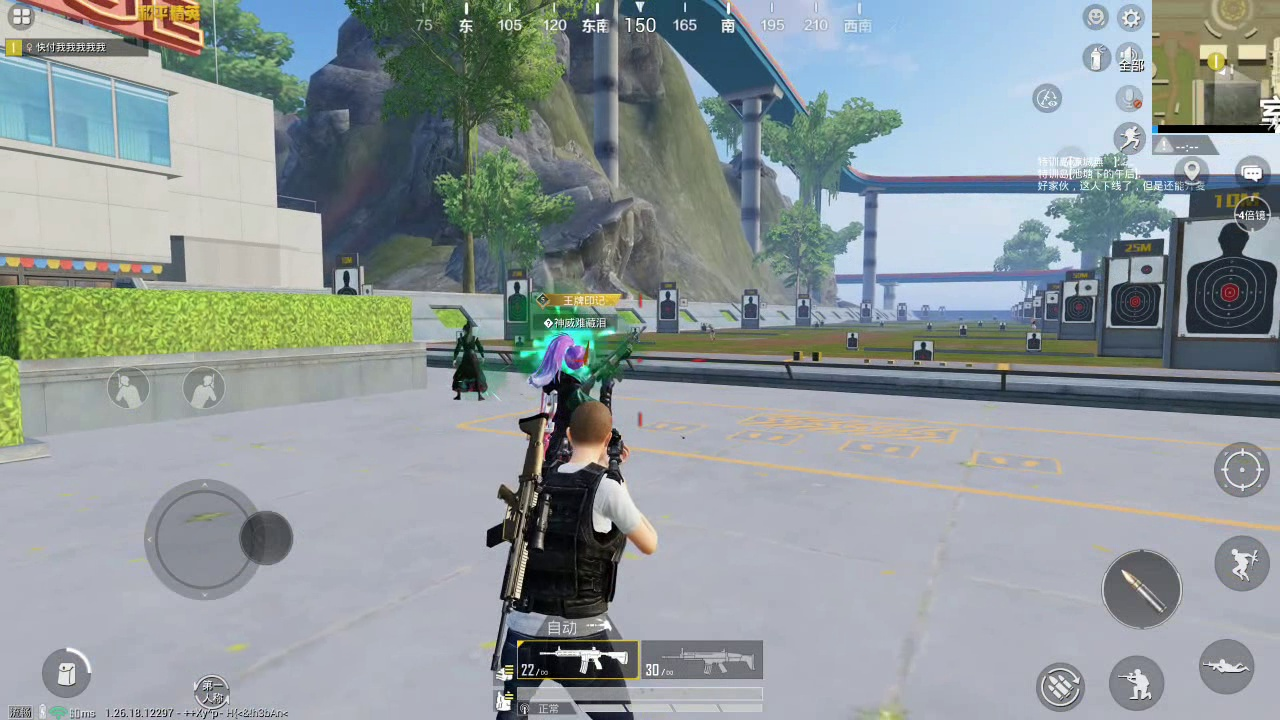enemy: (534, 331, 609, 404), (451, 320, 489, 401)
